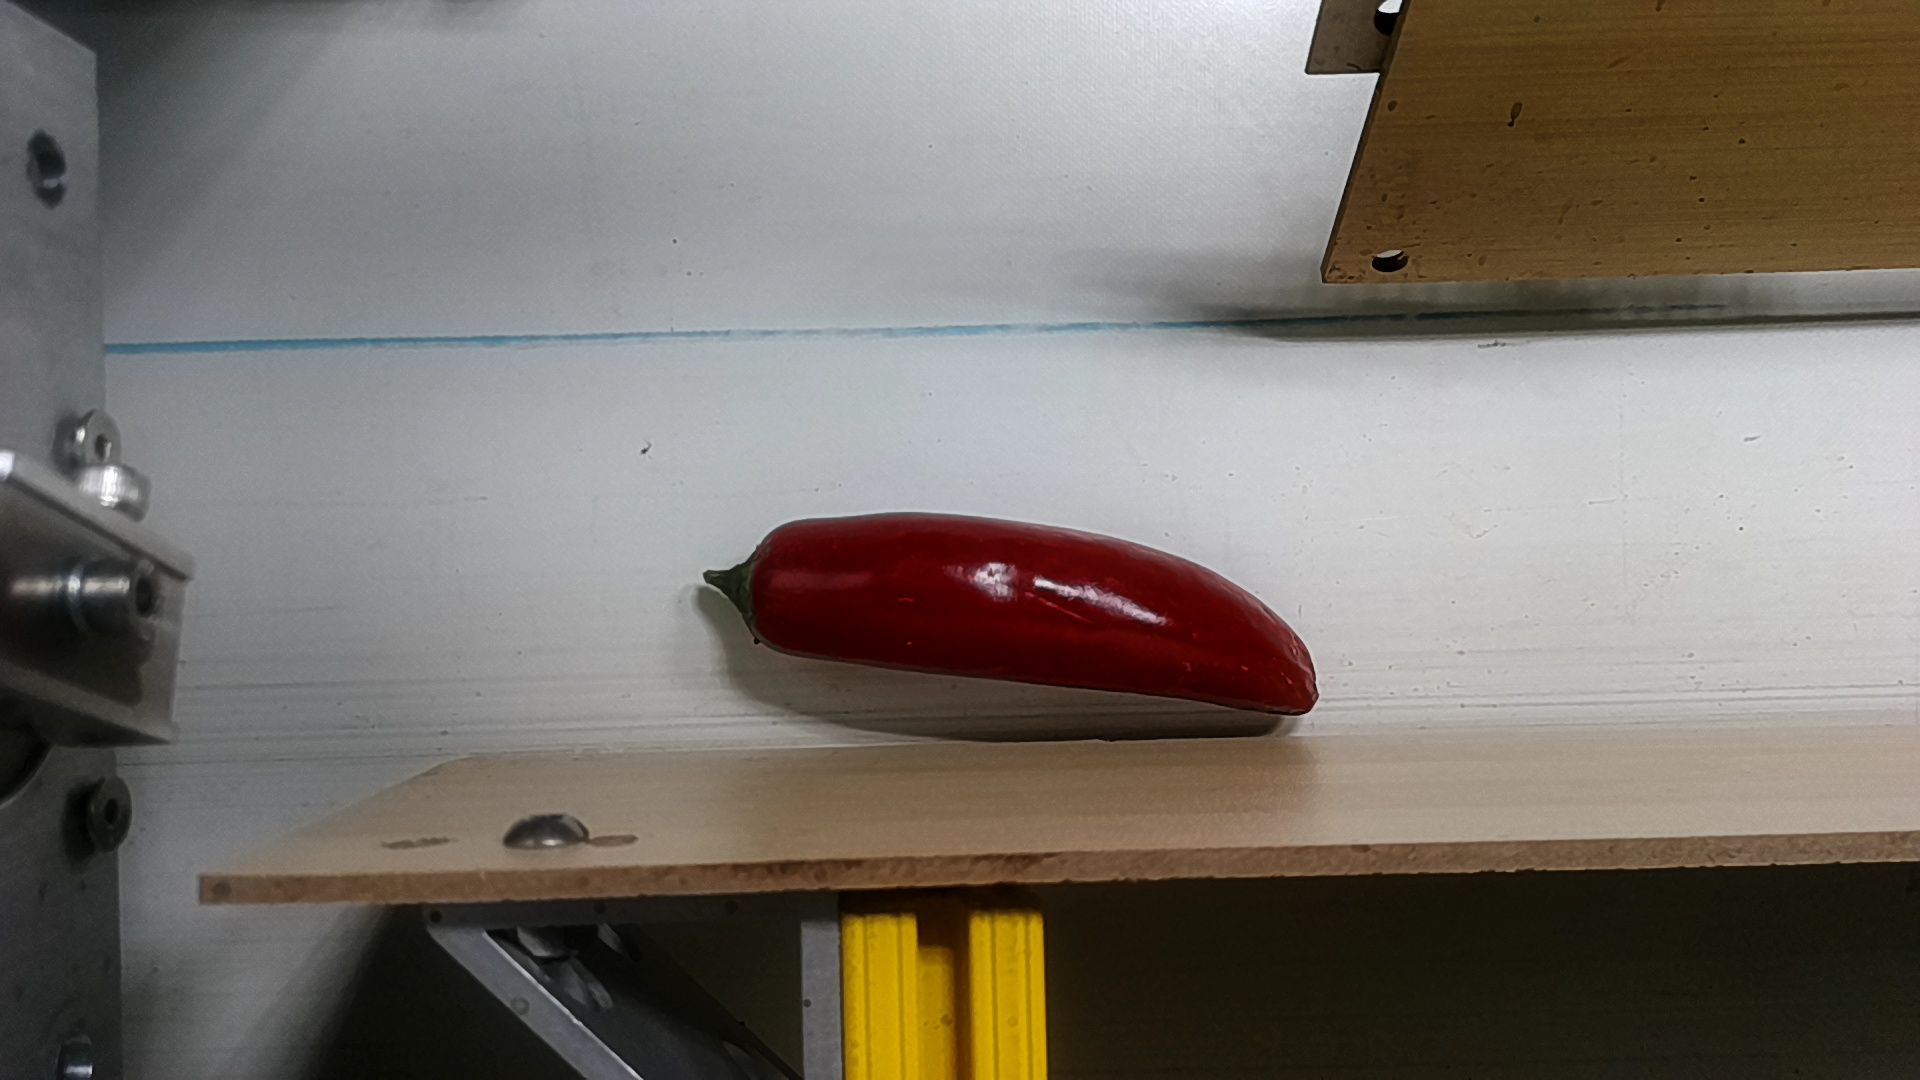Cut Point: (717, 510, 810, 661)
